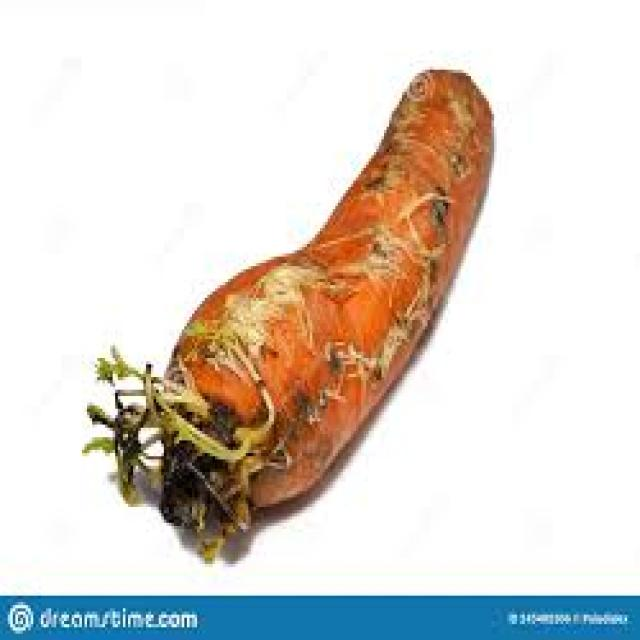Stale_Carrot: (151, 67, 491, 505)
